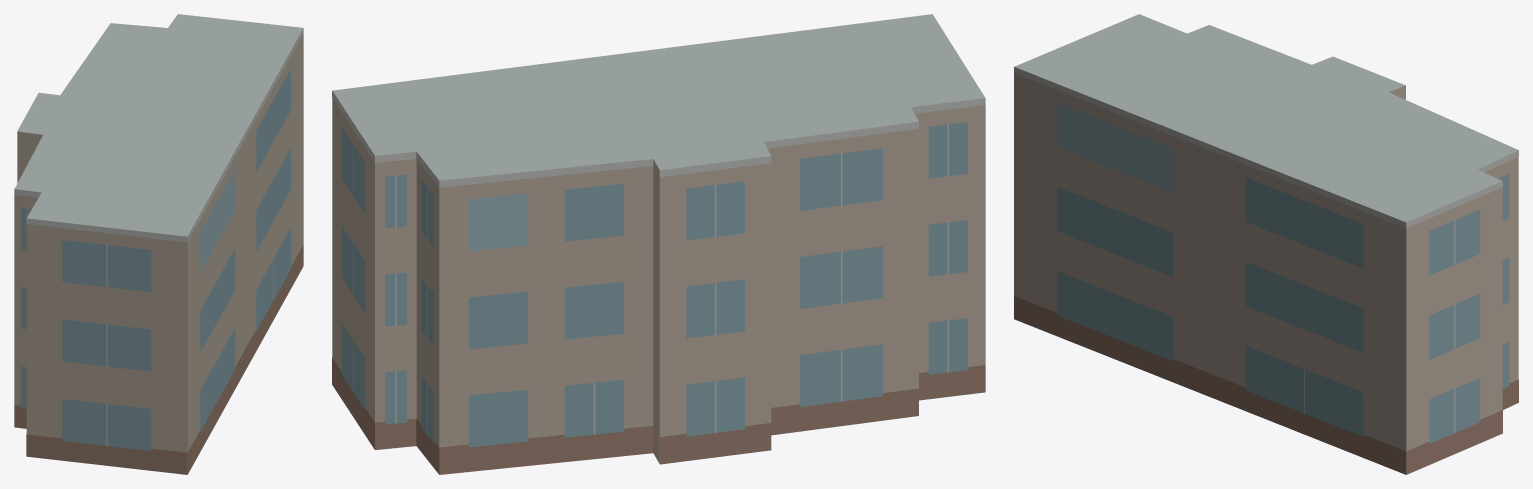
The model's file is survey-upis-32771487.glb.
3 views of the same model, side by side, from view 1: azimuth 30°, elevation 25°; view 2: azimuth 150°, elevation 25°; view 3: azimuth 270°, elevation 25° (orthographic). The views are drawn at different scales.
Visible parts, largest first — view 1: survey-upis-32771487.tmp; view 2: survey-upis-32771487.tmp; view 3: survey-upis-32771487.tmp.
Boxes of the visible parts, bbox=[...] form: survey-upis-32771487.tmp: bbox=[14, 14, 303, 474]; survey-upis-32771487.tmp: bbox=[332, 14, 985, 474]; survey-upis-32771487.tmp: bbox=[1014, 14, 1518, 474].
Size of the model in its own units: 18.07 by 10.2 by 18.49.
